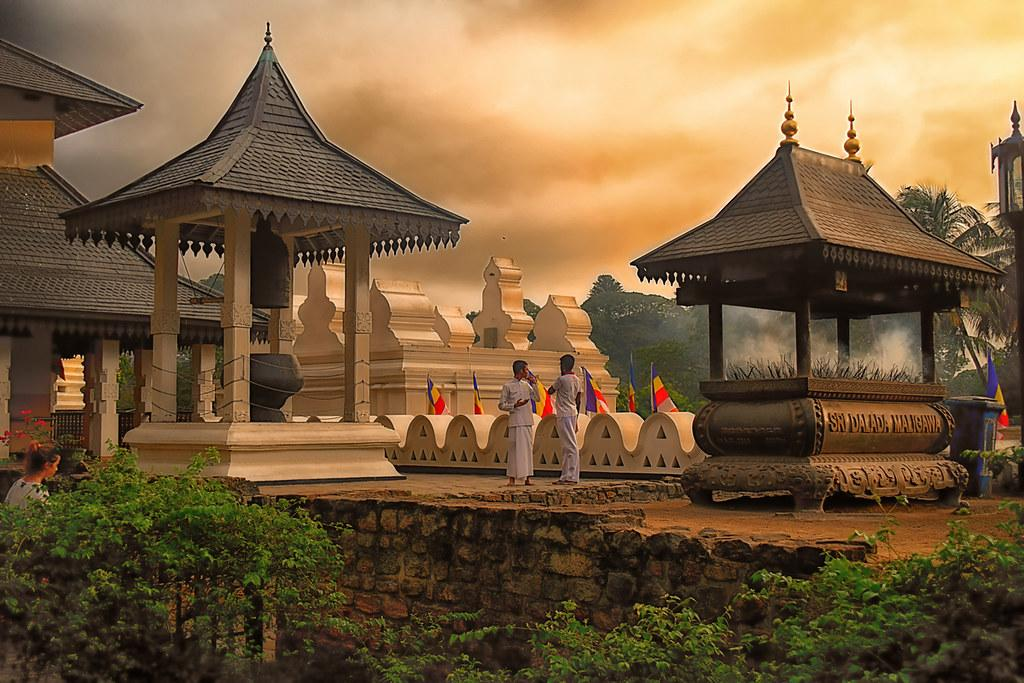temple: (55, 20, 622, 480), (629, 79, 1009, 513)
